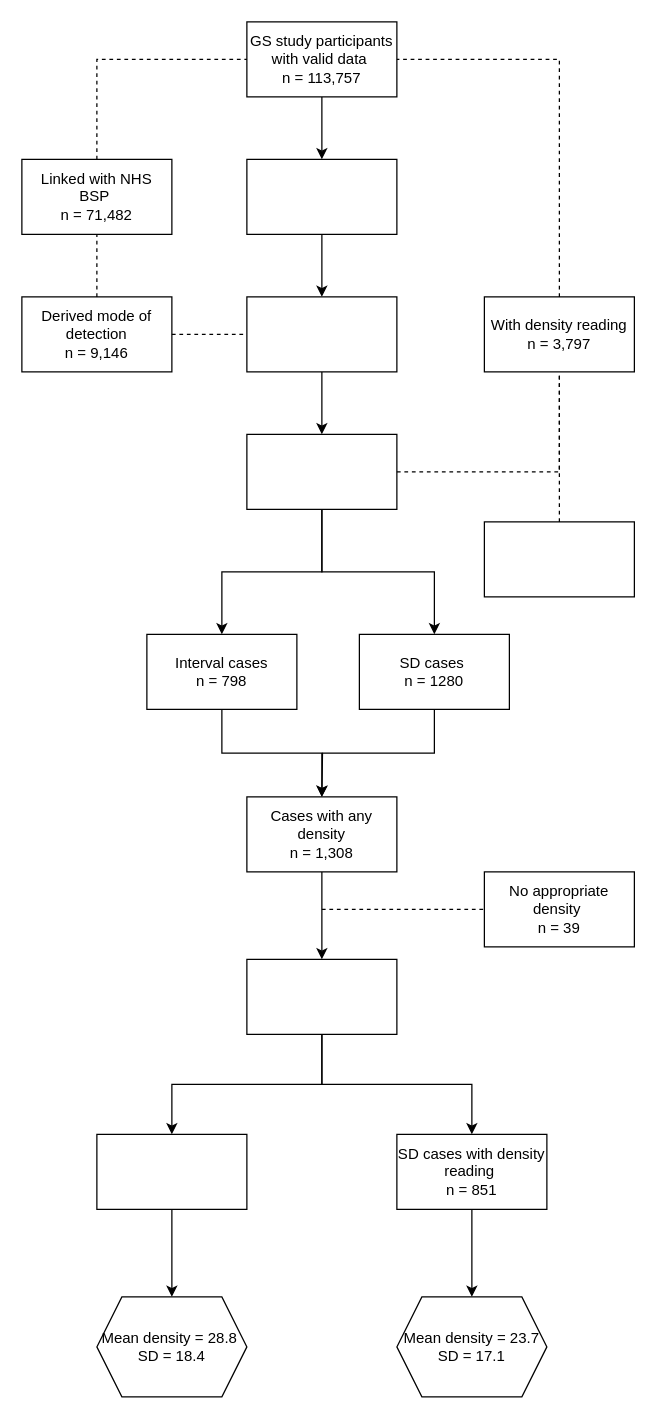
Some shapes in this 656 by 1419 pixel diagram are drawn without their labels. The centre of each missing label's shape, as x and y in pixels:
"Cases with selected density n = 1,269" belongs at point 321,996.
"Confirmed, incident, invasive or in situ. first BC n = 4172" belongs at point 321,196.
"Interval cases with density reading n = 418" belongs at point 171,1171.
"No density n = 770" belongs at point 558,559.
"selected cases with mode of detection n = 3,205" belongs at point 321,334.
"Selected cases with SD or I mode of detection n = 2078" belongs at point 321,471.
